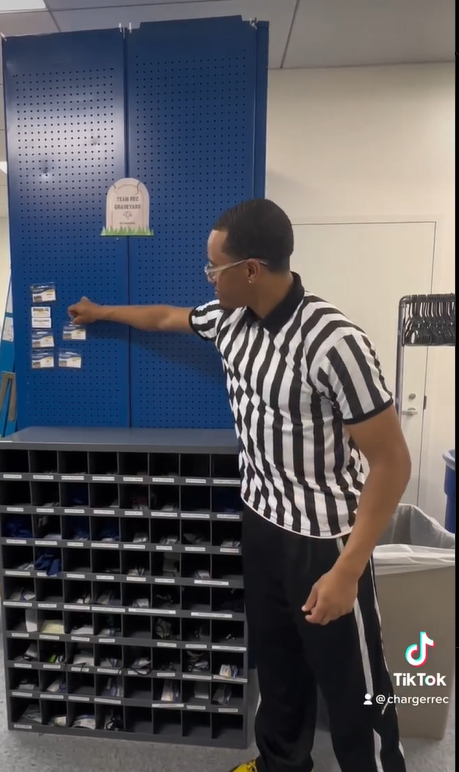Staff: (169, 197, 405, 477)
